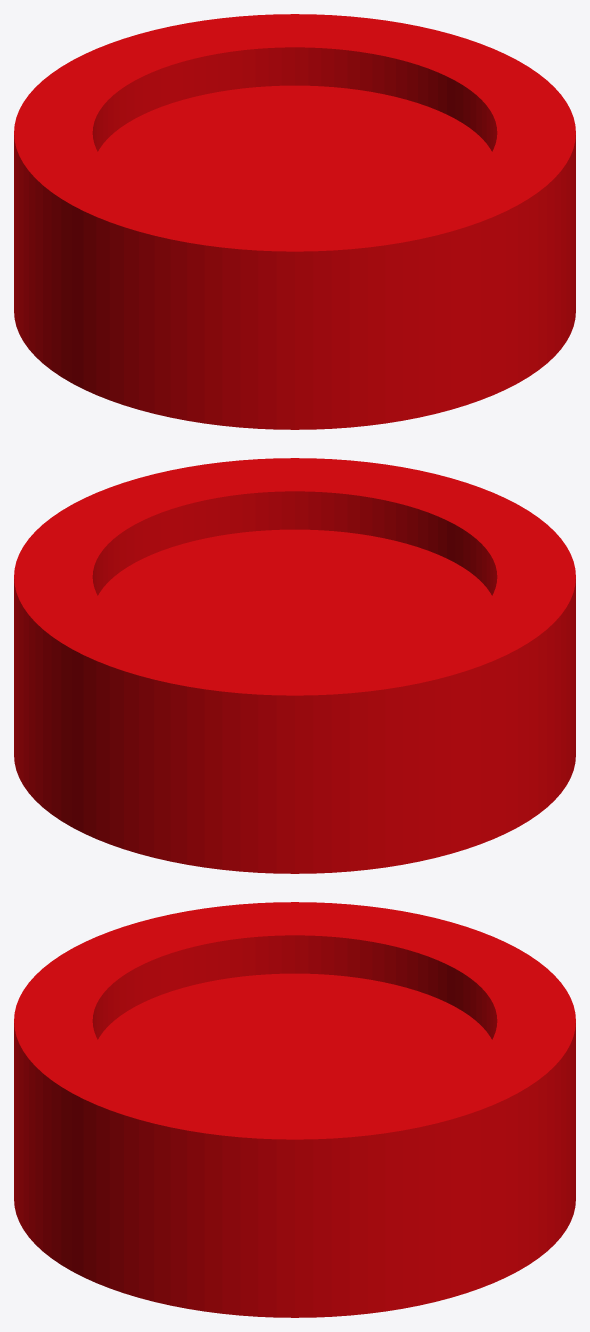
File: red_coin.fbx
3 renders of one model, top to bottom at view 1: azimuth 30°, elevation 25°; view 2: azimuth 150°, elevation 25°; view 3: azimuth 270°, elevation 25°, orthographic.
Parts seen in each view (by area): view 1: 4gewinnt.011; view 2: 4gewinnt.011; view 3: 4gewinnt.011.
Boxes of the visible parts, x1,y1,x2,y2 form: 4gewinnt.011: (14,14,575,429); 4gewinnt.011: (14,458,575,873); 4gewinnt.011: (14,902,575,1317).
Bounding box in the file's own units: 1380 × 483 × 1380.
